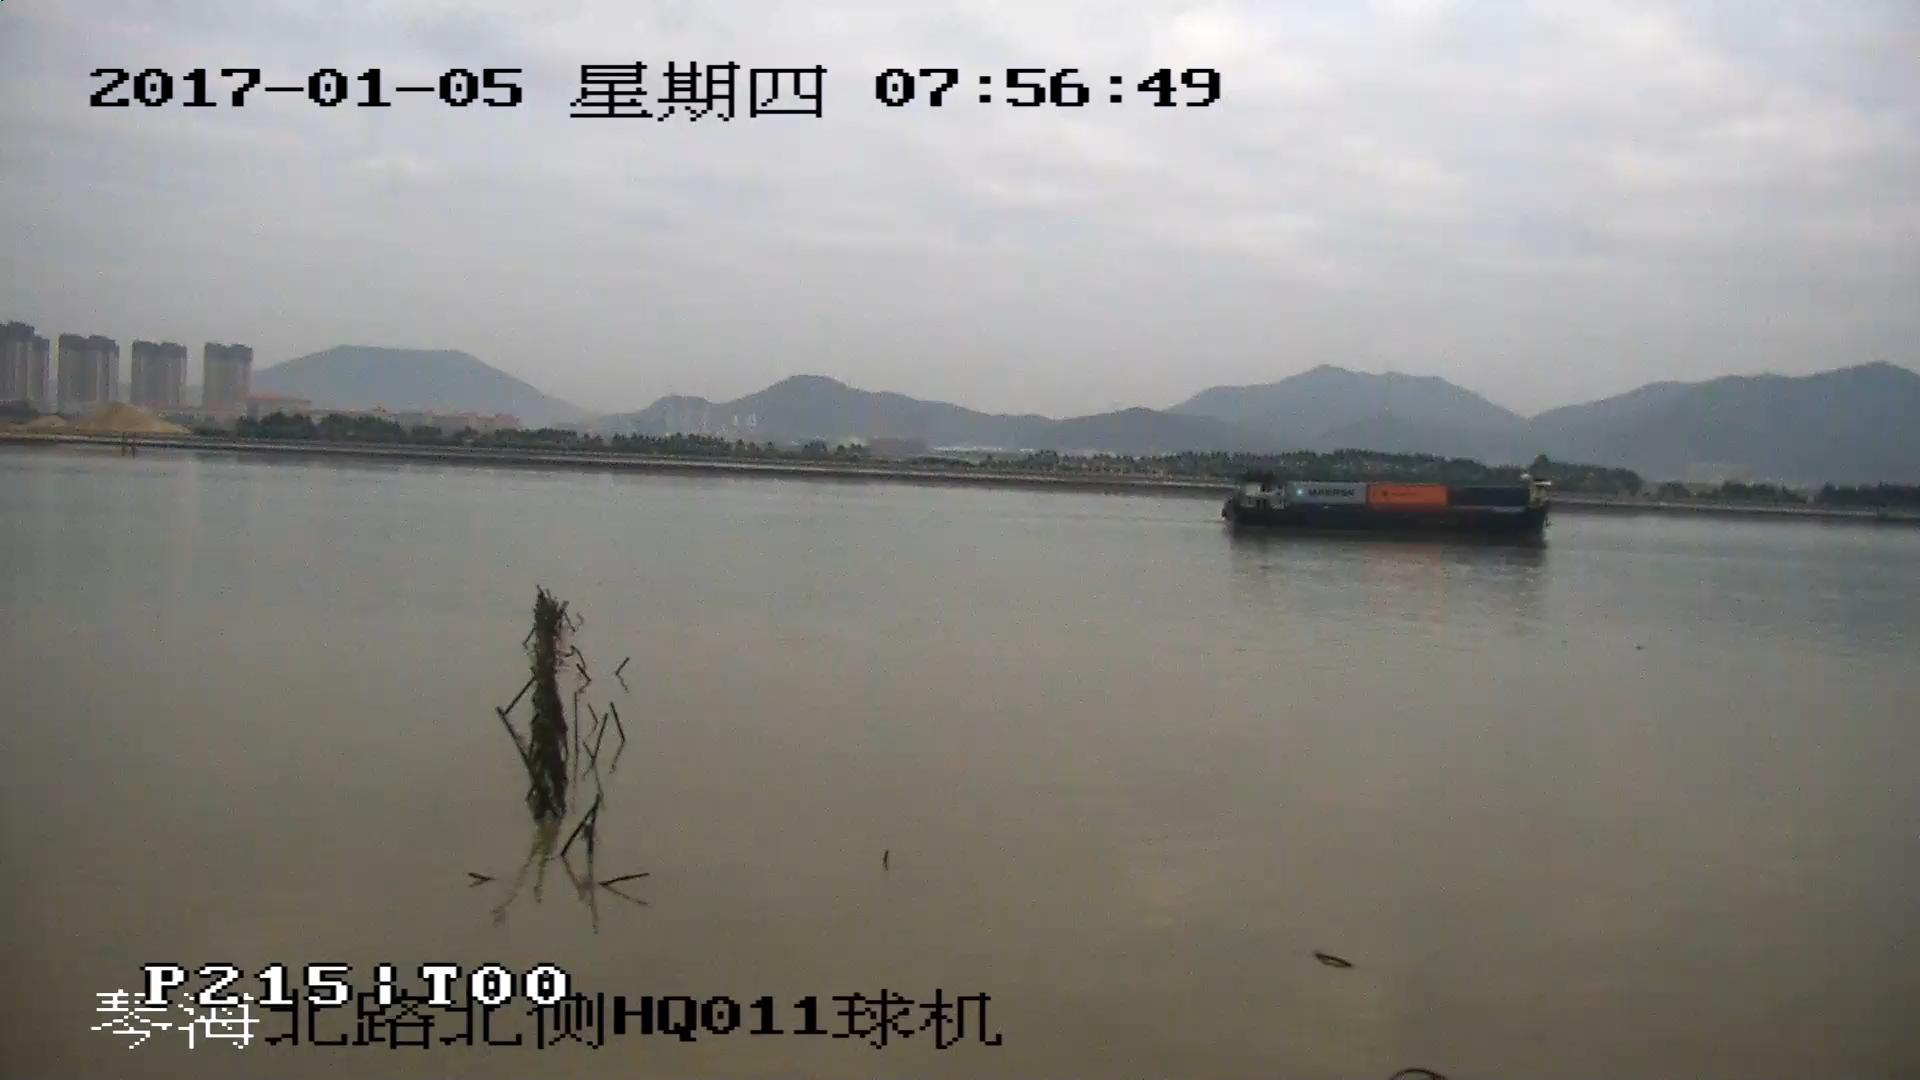container ship: (1219, 474, 1549, 537)
